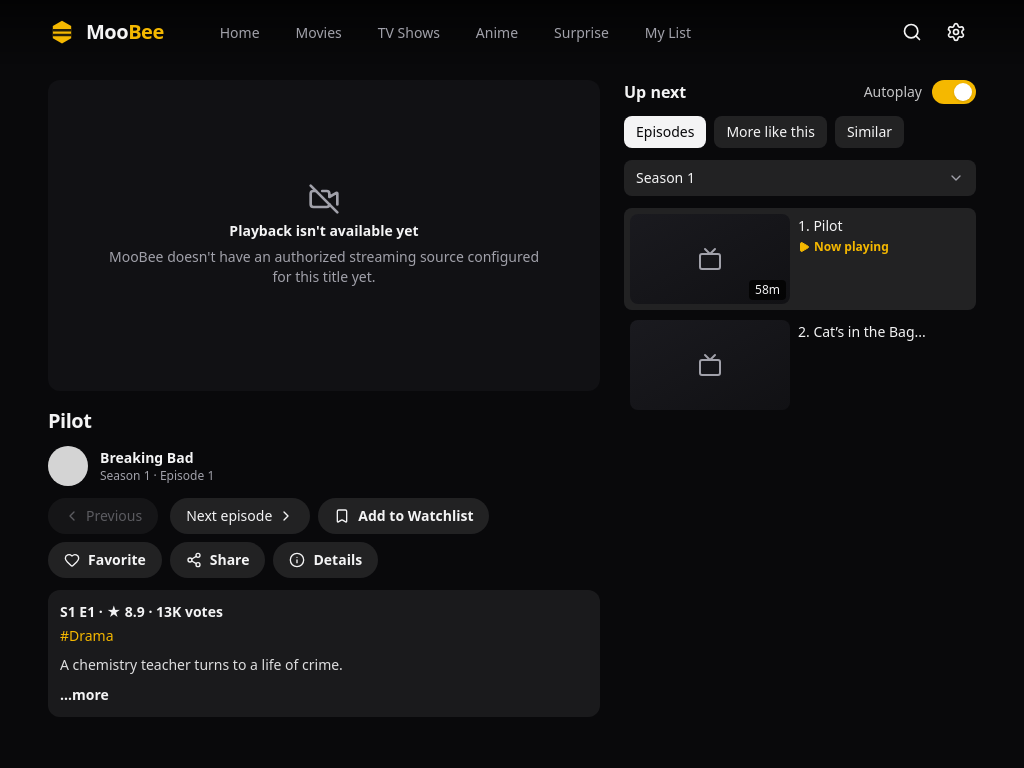
Scenario: TV watch page list › shows another season in the list without changing what is playing
Select "Season 2" in the dropdown named "Season": [800, 178] box top-left (624, 160), bottom-right (976, 196)
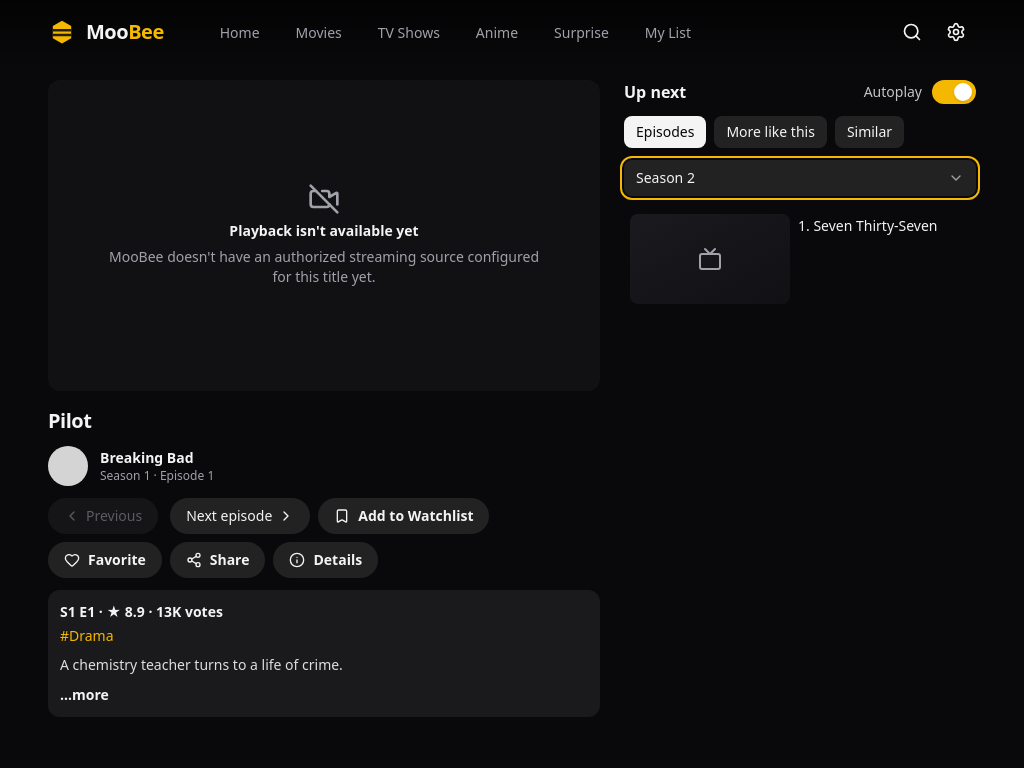
Check: the heading "Pilot" is shown, box top-left (48, 406), bottom-right (91, 434)
Check: the link "Cat’s in the Bag" is gone
